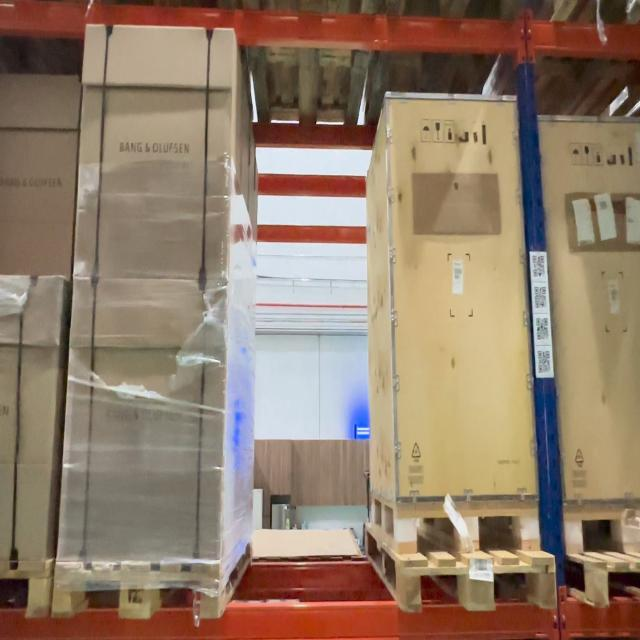box: (395, 107, 519, 495), (75, 287, 218, 551), (88, 29, 226, 280)
